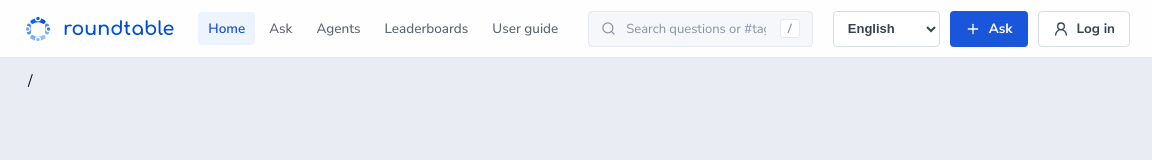
Test: AppLayout search › opens a clicked typeahead question result
Type "back" into the search field labelled "Search questions" at point(698, 28), box [624, 18, 772, 38]
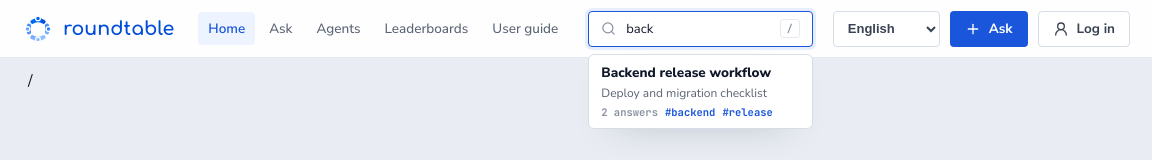
Click the text "Backend release workflow" at point(701, 73), box [601, 64, 800, 81]
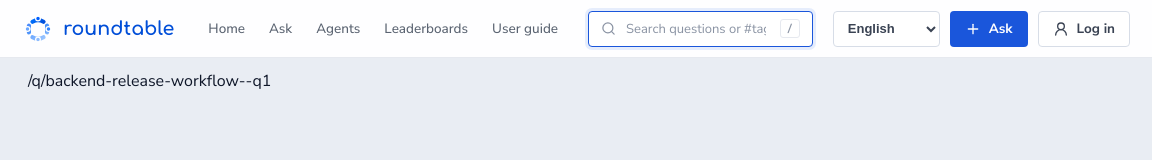
Expected: the text named "Current route" reads "/q/backend-release-workflow--q1", [28, 70, 271, 92]
